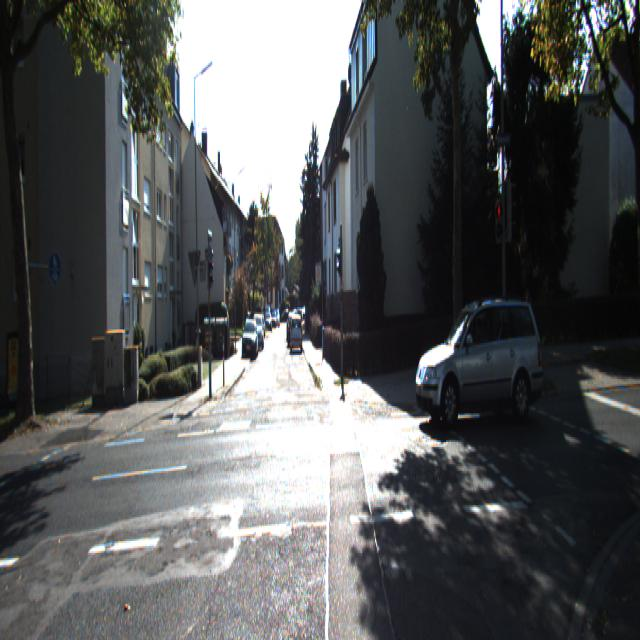Car: (412, 290, 546, 427), (242, 319, 258, 360), (289, 315, 303, 356)
